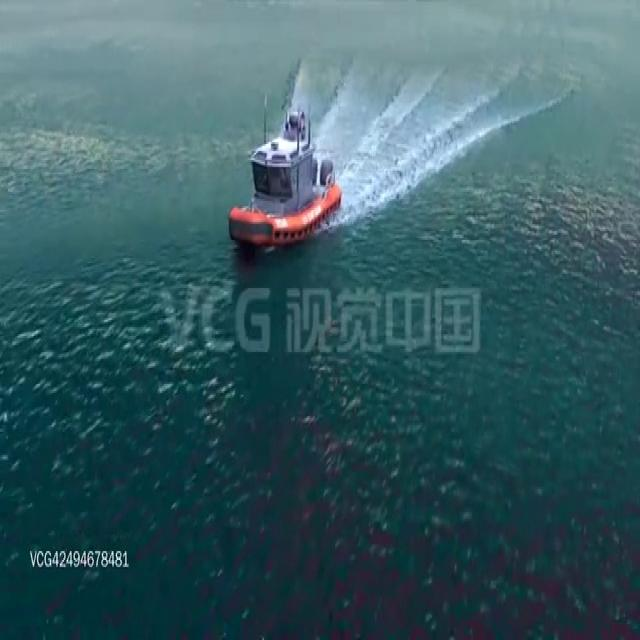houseboat: (224, 106, 341, 241)
